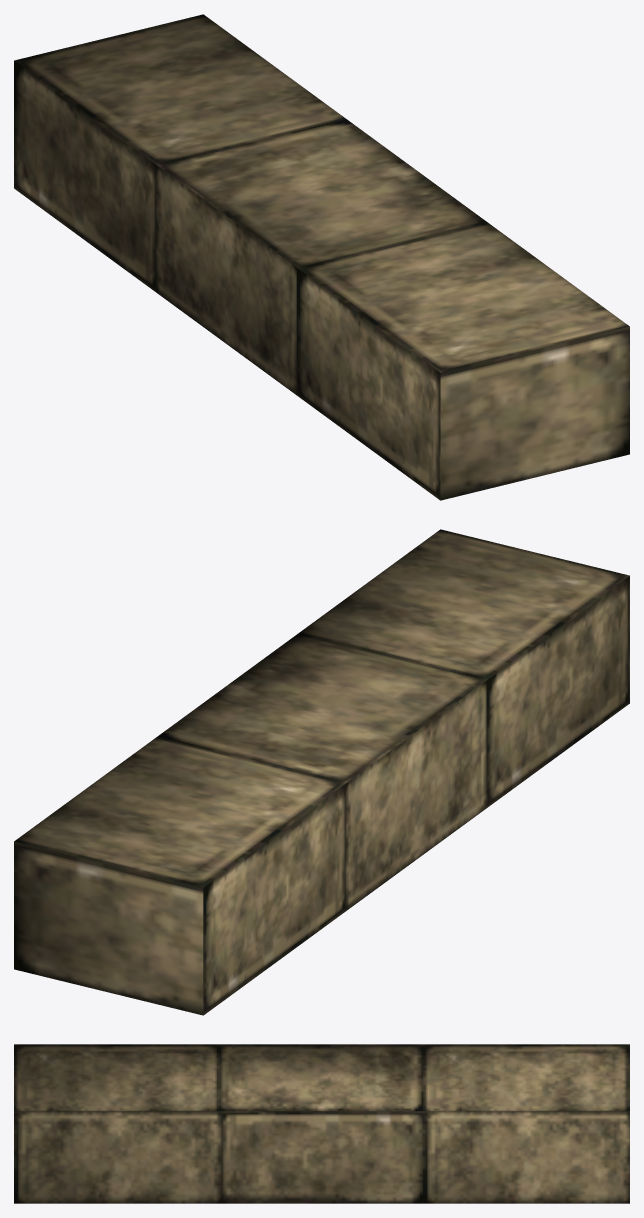
The model's file is OVERHILL_A_01_OBJECT302.fbx.
3 renders of one model, top to bottom at view 1: azimuth 30°, elevation 25°; view 2: azimuth 150°, elevation 25°; view 3: azimuth 270°, elevation 25°, orthographic. The views are drawn at different scales.
Visible parts, largest first — view 1: OVERHILL_A_01_OBJECT302; view 2: OVERHILL_A_01_OBJECT302; view 3: OVERHILL_A_01_OBJECT302.
Part boxes in pixels (x1,y1,x2,y2): OVERHILL_A_01_OBJECT302: (14, 14, 629, 500); OVERHILL_A_01_OBJECT302: (14, 529, 629, 1015); OVERHILL_A_01_OBJECT302: (14, 1044, 629, 1203).
Bounding box in the file's own units: 8373 × 5399 × 32635.
Materials: 1 (1 with a texture image).
